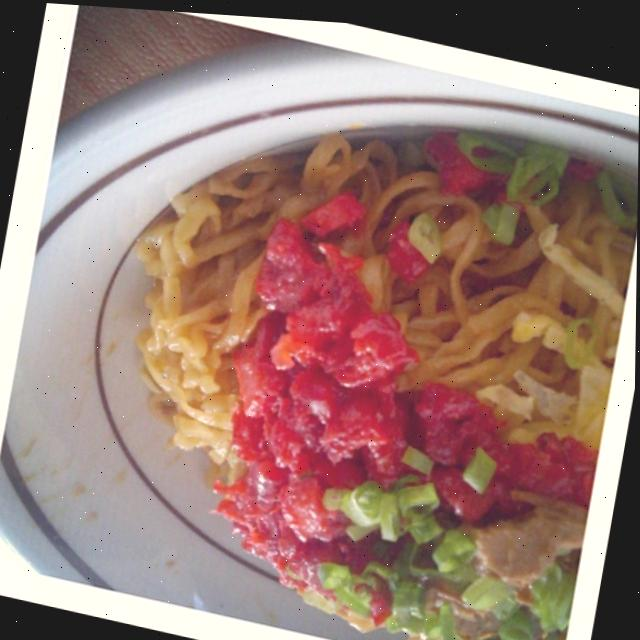面条主食: (48, 60, 634, 640)
